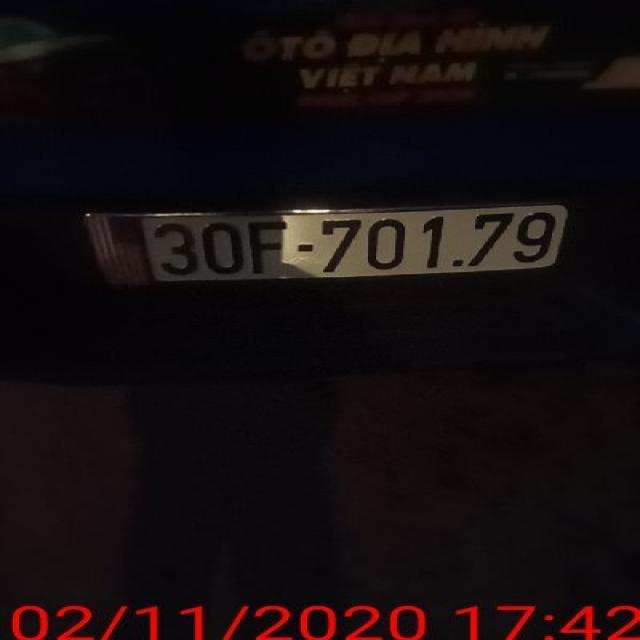bien_so_oto: (131, 199, 579, 291)
